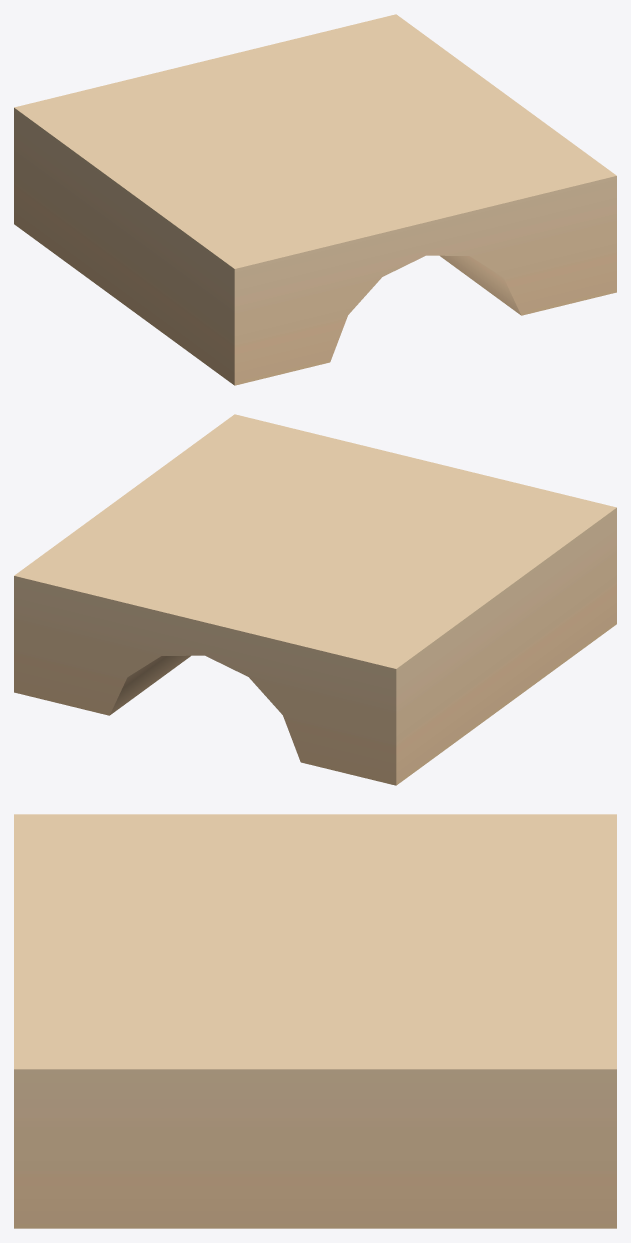
File: structure-gate-wide.glb
3 views of the same model, one above another, from view 1: azimuth 30°, elevation 25°; view 2: azimuth 150°, elevation 25°; view 3: azimuth 270°, elevation 25° (orthographic). The views are drawn at different scales.
Visible parts, largest first — view 1: structure-gate-wide; view 2: structure-gate-wide; view 3: structure-gate-wide.
Boxes of the visible parts, bbox=[...] form: structure-gate-wide: bbox=[14, 14, 616, 385]; structure-gate-wide: bbox=[14, 414, 616, 785]; structure-gate-wide: bbox=[14, 814, 616, 1228].
Bounding box in the file's own units: 0.7999 × 0.2333 × 0.7999.
1 material, 1 textured.
